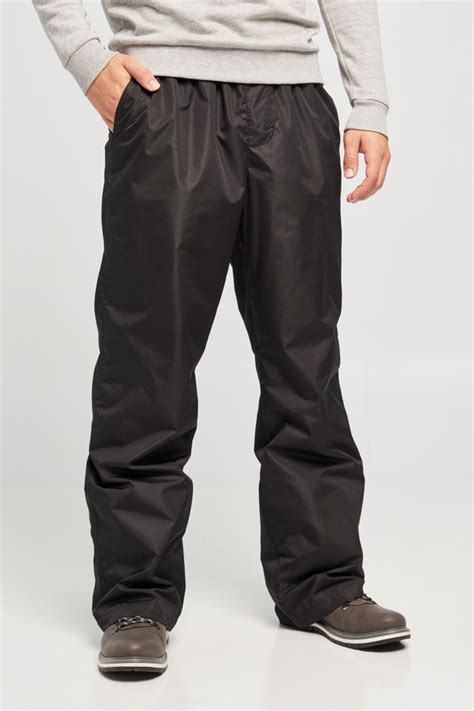nylon: (82, 73, 367, 630)
